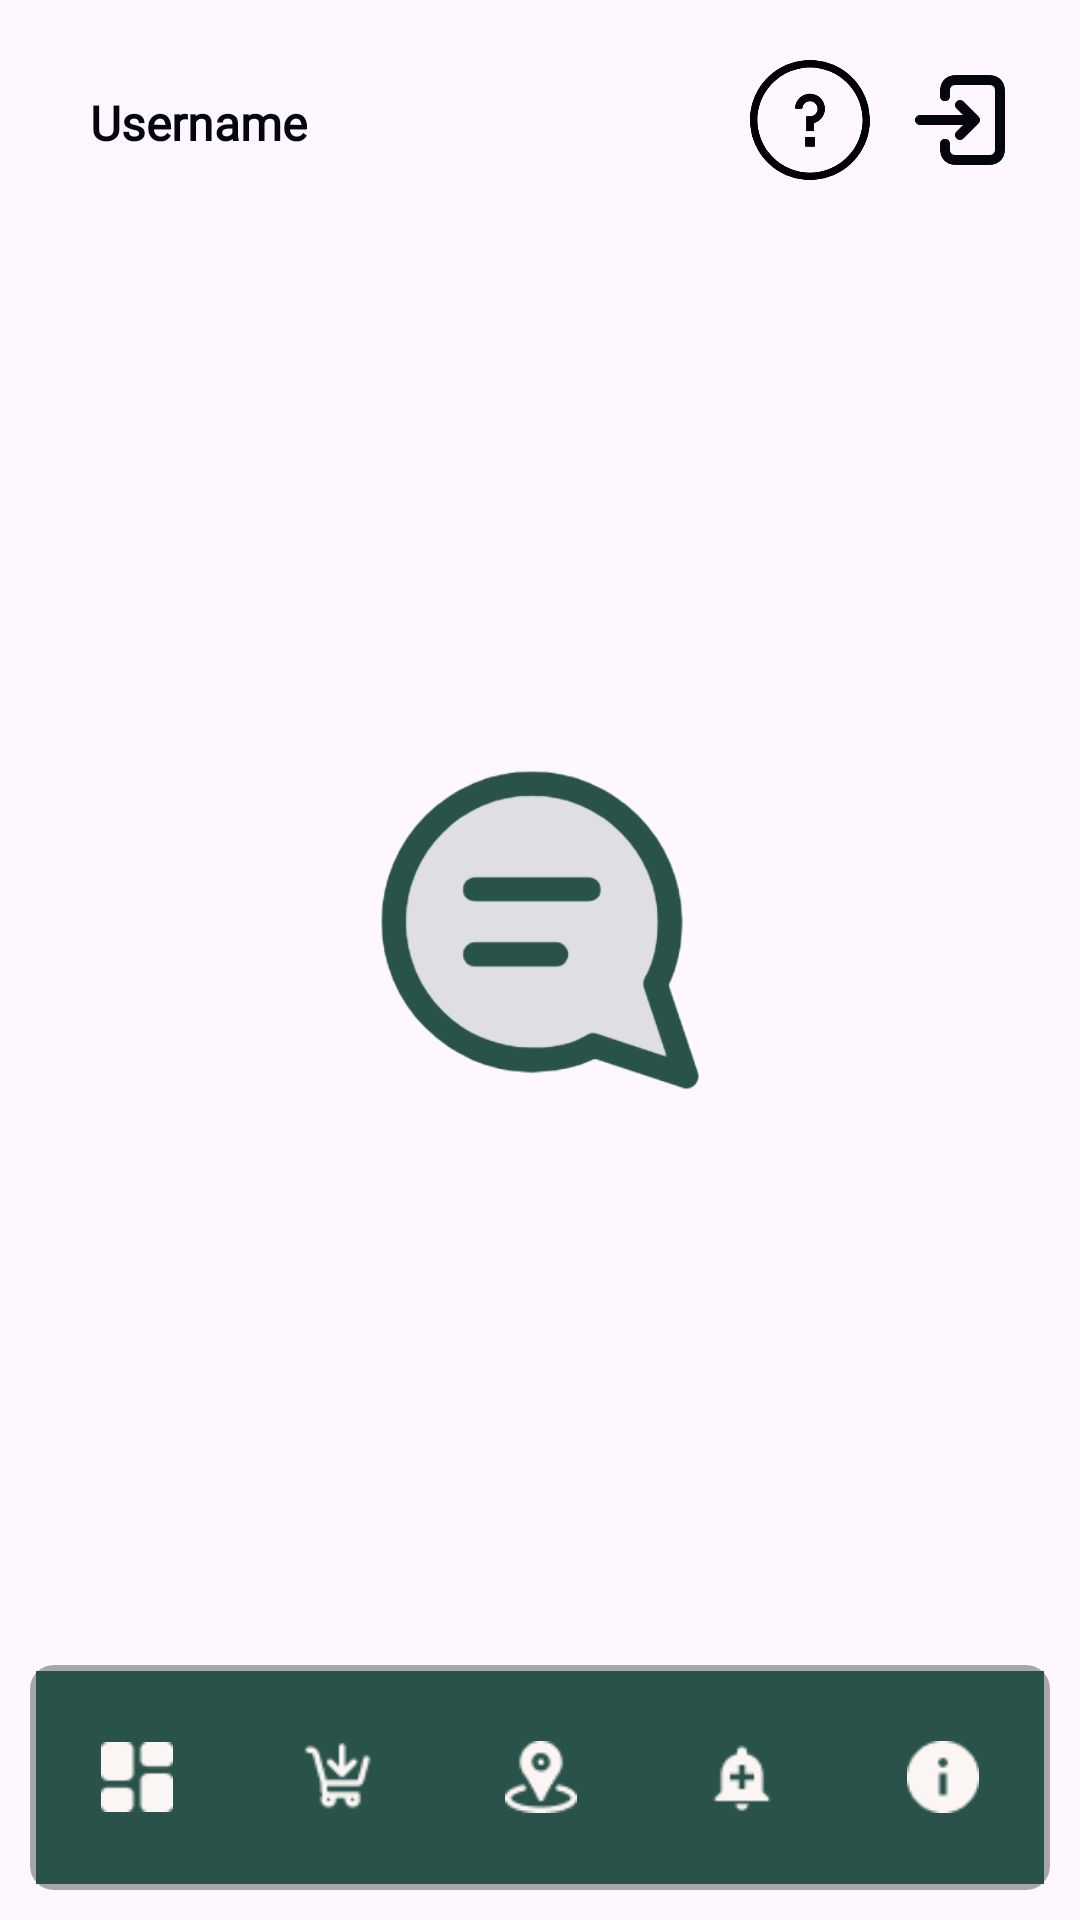

Icons on this 1080*1920 Android screen, each with its box as (x1, y1, x2, y2):
Global Chat: (381, 771, 699, 1089)
